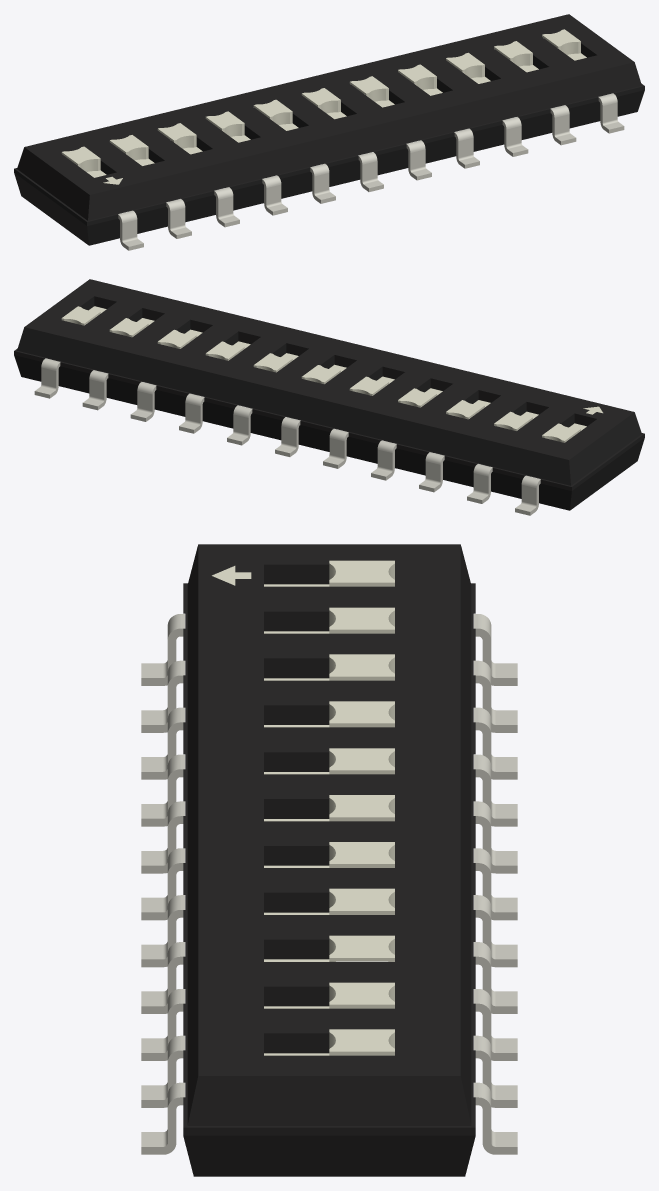
The model's file is kc-sw_dip_spstx11_slide_6.7x29.5mm_w8.61mm_p2.54mm_lowprofile.glb.
3 views of the same model, one above another, from view 1: azimuth 30°, elevation 25°; view 2: azimuth 150°, elevation 25°; view 3: azimuth 270°, elevation 25° (orthographic). The views are drawn at different scales.
Parts seen in each view (by area): view 1: 0_0_0_0, 0.6666666666666666_0.6666666666666666_0.5833333333333334_0.8, 0.75_0.75_0.6666666666666666_0; view 2: 0_0_0_0, 0.6666666666666666_0.6666666666666666_0.5833333333333334_0.8, 0.75_0.75_0.6666666666666666_0; view 3: 0_0_0_0, 0.6666666666666666_0.6666666666666666_0.5833333333333334_0.8, 0.75_0.75_0.6666666666666666_0.
Boxes of the visible parts, x1,y1,x2,y2 form: 0_0_0_0: (14, 14, 644, 245); 0.6666666666666666_0.6666666666666666_0.5833333333333334_0.8: (118, 93, 624, 250); 0.75_0.75_0.6666666666666666_0: (61, 29, 586, 184); 0_0_0_0: (14, 279, 644, 510); 0.6666666666666666_0.6666666666666666_0.5833333333333334_0.8: (34, 358, 540, 515); 0.75_0.75_0.6666666666666666_0: (61, 306, 602, 442); 0_0_0_0: (183, 544, 475, 1176); 0.6666666666666666_0.6666666666666666_0.5833333333333334_0.8: (141, 614, 517, 1154); 0.75_0.75_0.6666666666666666_0: (212, 560, 394, 1055).
Size of the model in its own units: 2.95 by 0.27 by 0.8611.
